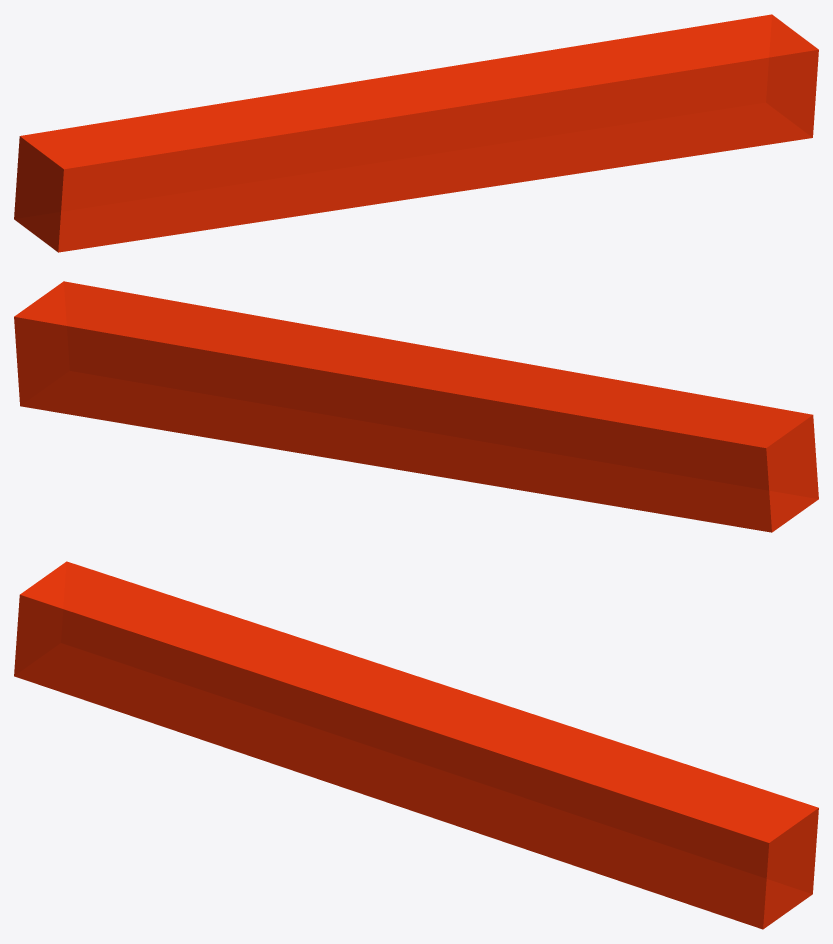
The model's file is Event_420107950_EErechit_72.fbx.
The picture shows the model from 3 angles, top to bottom: view 1: azimuth 30°, elevation 25°; view 2: azimuth 150°, elevation 25°; view 3: azimuth 330°, elevation 25°; orthographic projection.
Parts seen in each view (by area): view 1: Model; view 2: Model; view 3: Model.
Part boxes in pixels (x1,y1,x2,y2): Model: (14,14,818,252); Model: (14,281,818,532); Model: (14,561,818,929).
Bounding box in the file's own units: 0.6973 × 0.1268 × 0.0856.
